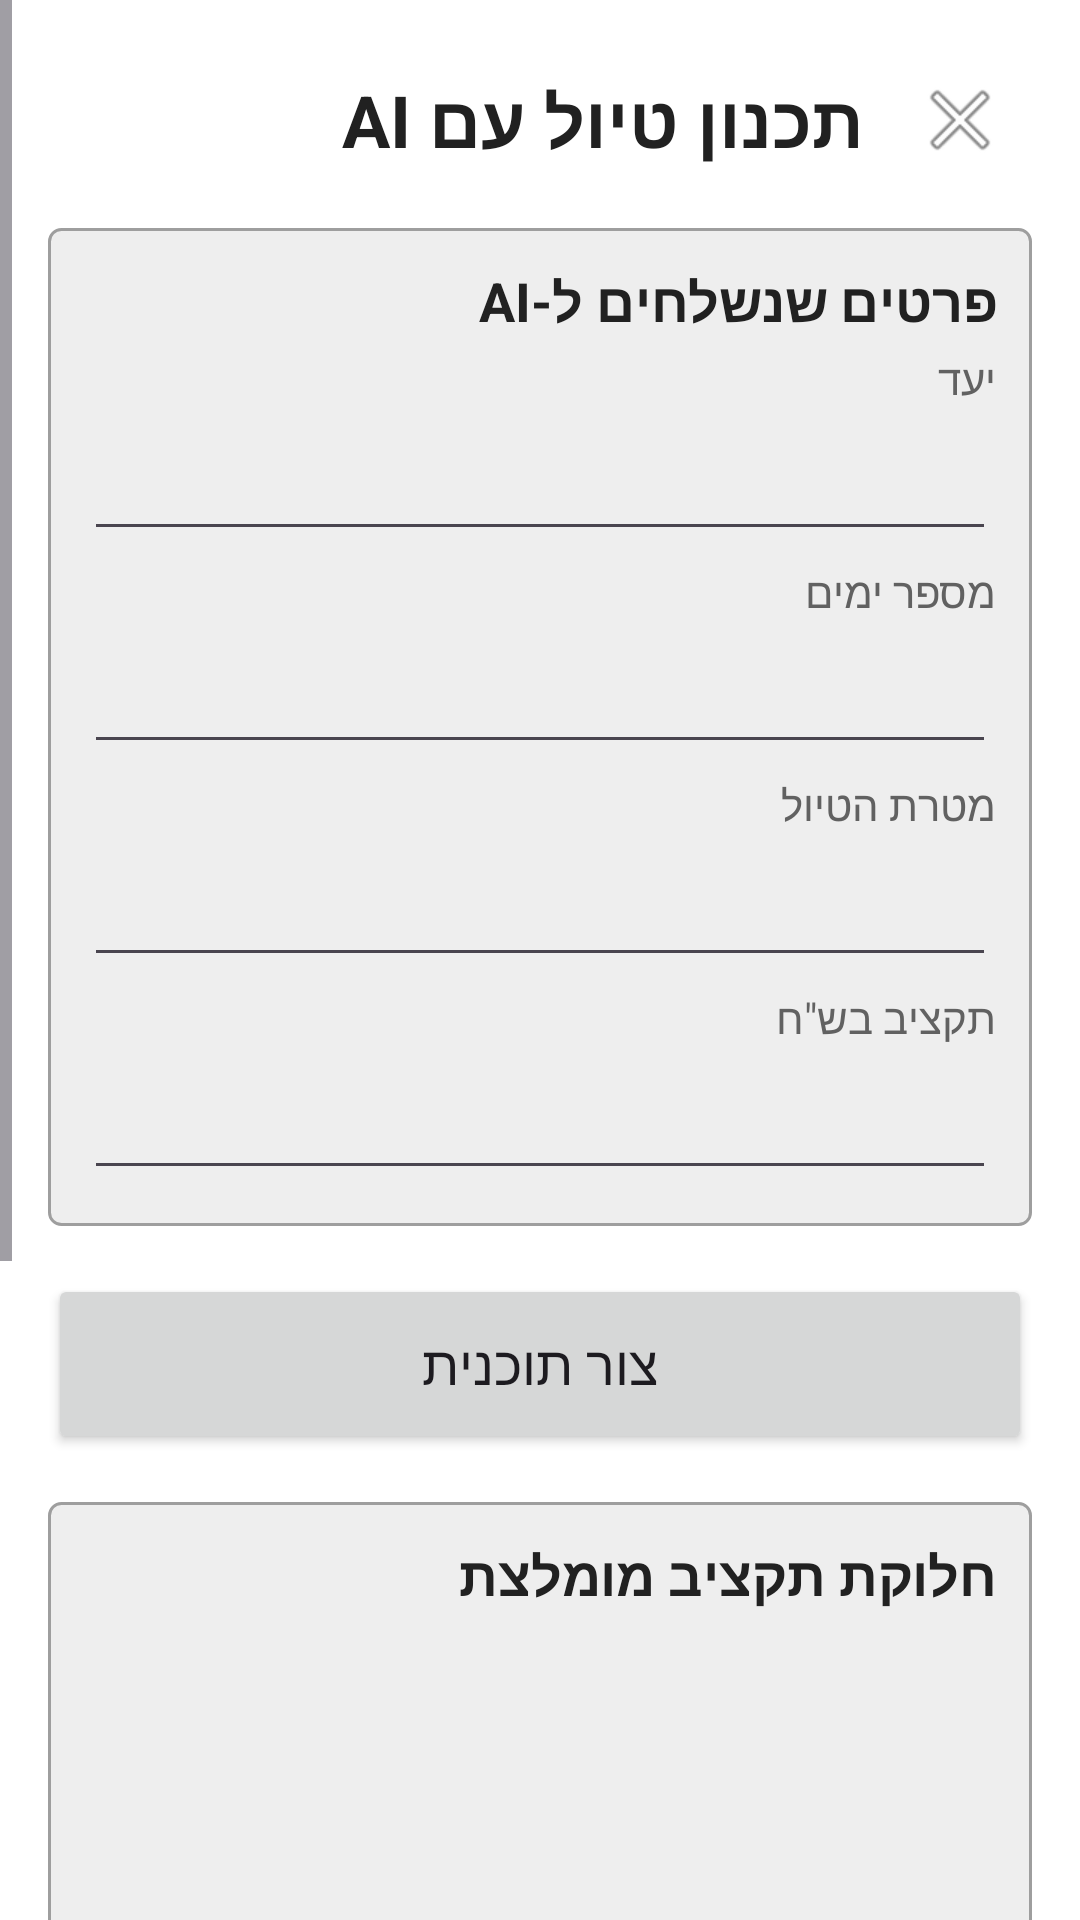

Icons on this 1080 x 1920 Android screen, each with the point to tap as [x,y]:
סגור: [960,120]
